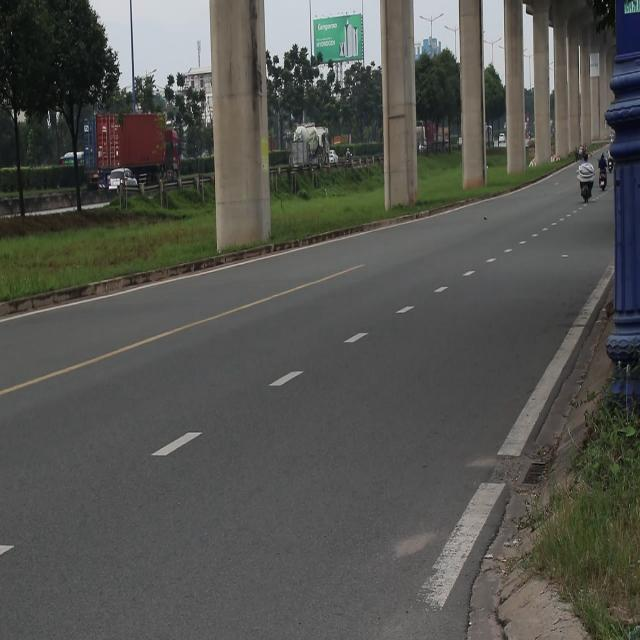car: (105, 168, 143, 194), (61, 152, 88, 168), (326, 151, 340, 167)
motorbike: (604, 140, 618, 182), (578, 180, 594, 206), (598, 162, 606, 194)
truck: (89, 112, 181, 194), (90, 162, 153, 195), (282, 122, 316, 176)
